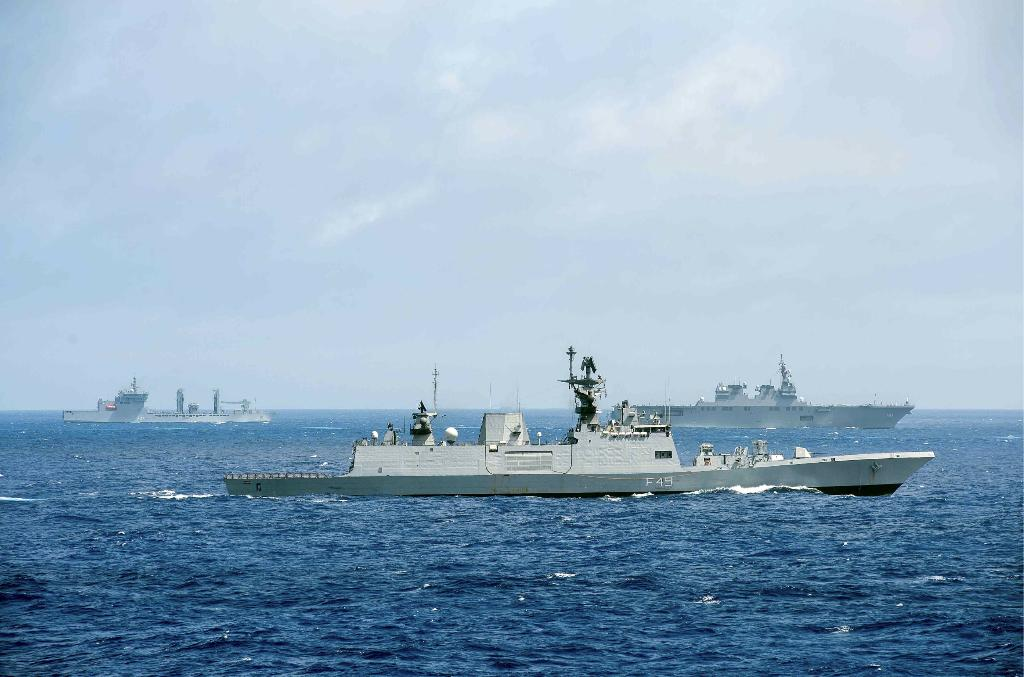Warship: (245, 340, 929, 502), (610, 352, 920, 434), (58, 370, 272, 430)
